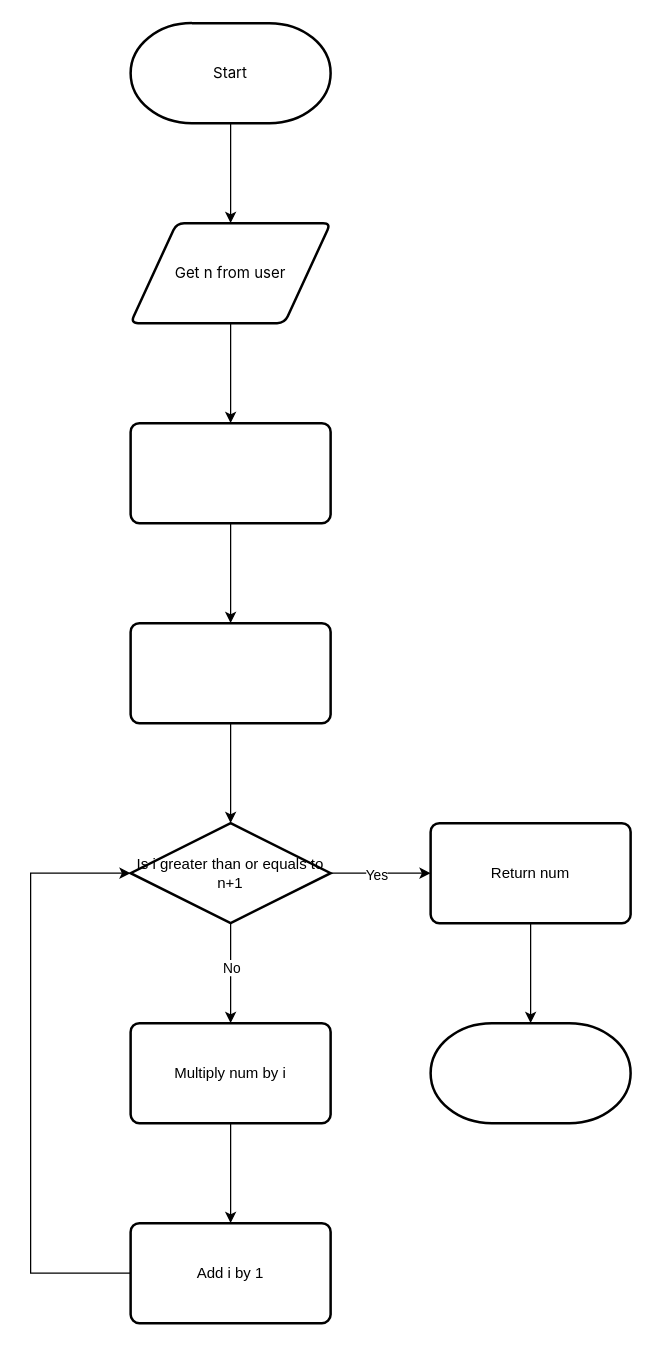
Some shapes in this 654 by 1345 pixel diagram are drawn without their labels. Each missing label, with the box of its shape:
Finish: (429, 1021, 631, 1124)
Set i as 2: (129, 621, 331, 724)
Set num as 1: (129, 421, 331, 524)
